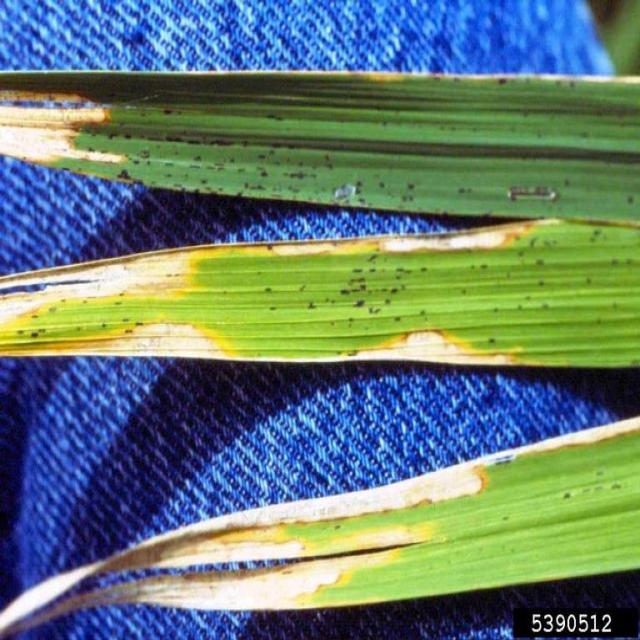Bacterial leaf blight: (0, 451, 509, 634), (0, 245, 241, 359), (0, 68, 112, 172), (237, 218, 559, 253), (334, 326, 528, 362)
